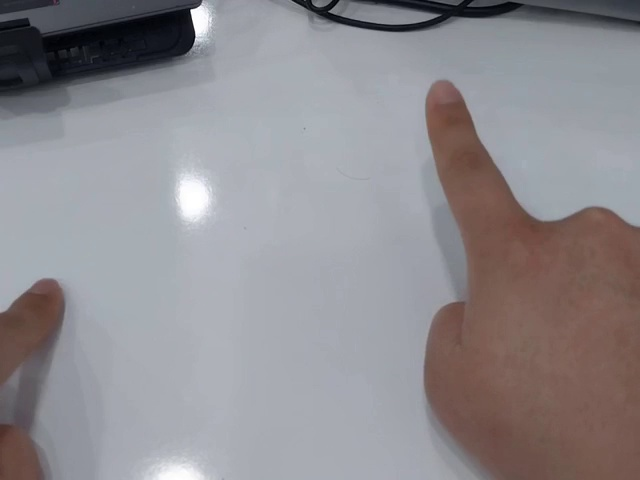fingers: (9, 277, 66, 346), (424, 78, 475, 130)
